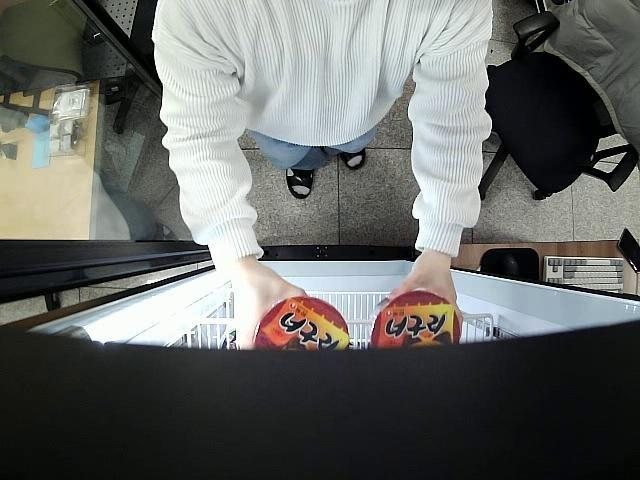05_nuguri_L: (368, 290, 461, 352), (250, 298, 350, 352)
